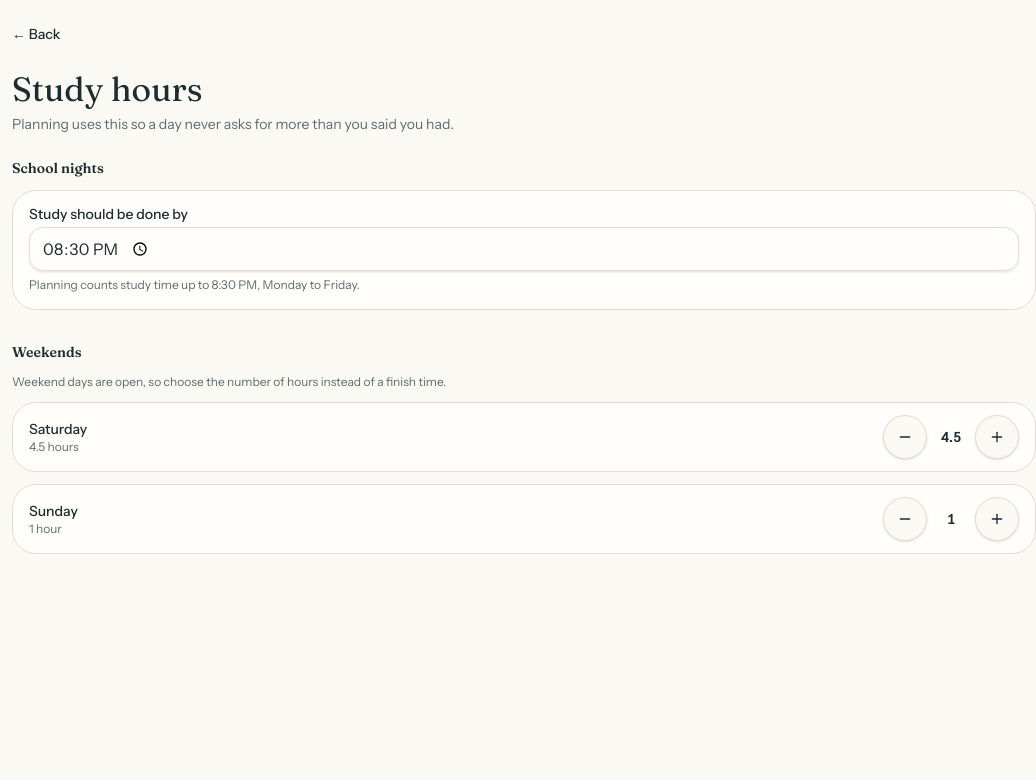
it: PreferencesPage › says when a save fails and can try again, keeping the change on screen
Expected: the time field labelled "Study should be done by" holds "20:30", x1=29 y1=227 x2=1019 y2=271
Step 1. Click the button named "More time on Saturday" → (997, 437), box x1=975 y1=415 x2=1019 y2=459
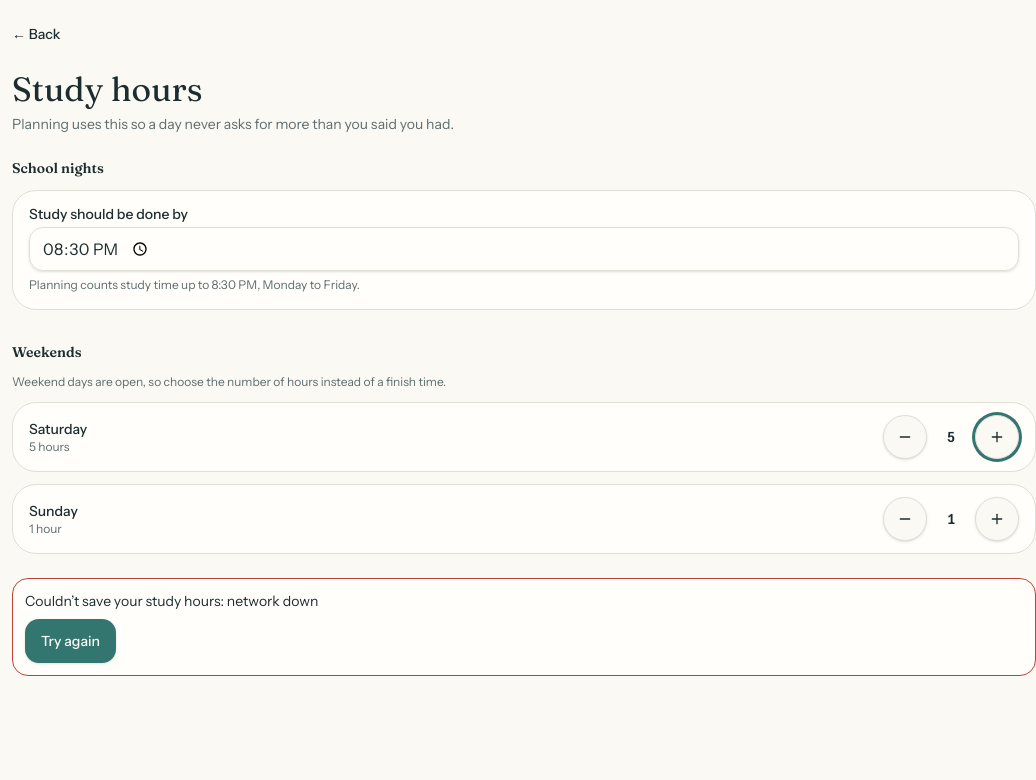
Expected: the text "5 hours" is shown, x1=29 y1=439 x2=70 y2=454
Expected: the message shows "Couldn’t save your study hours", x1=25 y1=592 x2=318 y2=610
Step 2. Click the button "Try again" → (70, 641), box x1=25 y1=619 x2=116 y2=663
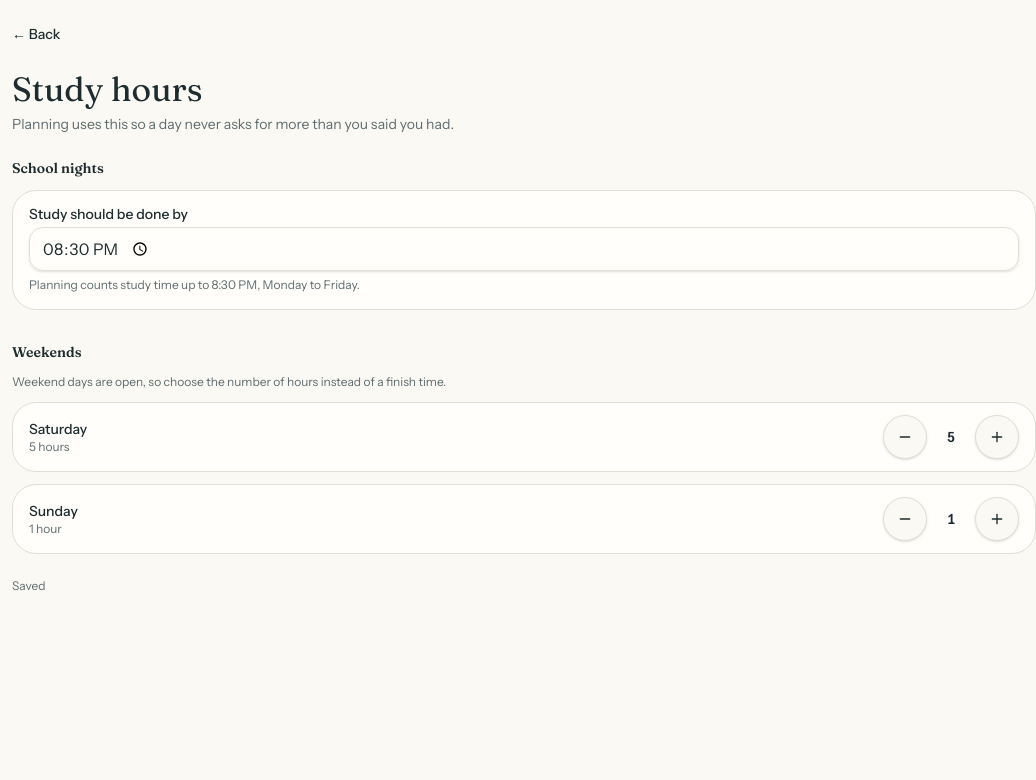
Expected: the message "Couldn’t save your study hours: network down Try again" is gone
Expected: the text "Saved" is shown, x1=12 y1=578 x2=46 y2=593
